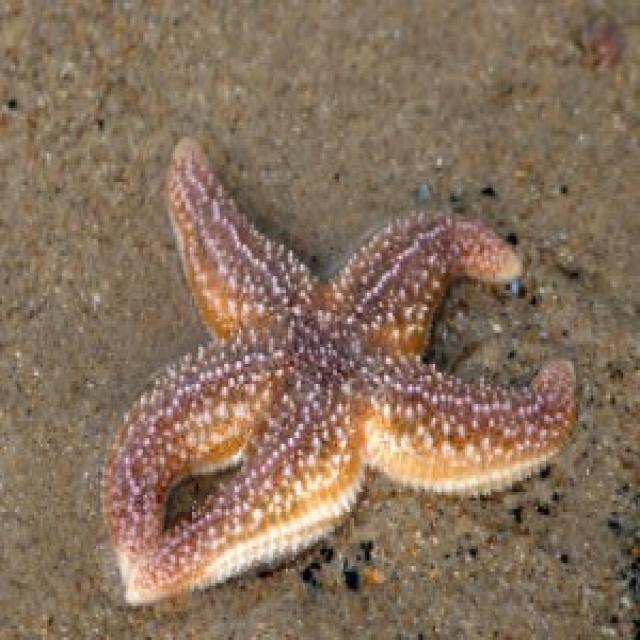Starfish: (97, 114, 584, 609)
